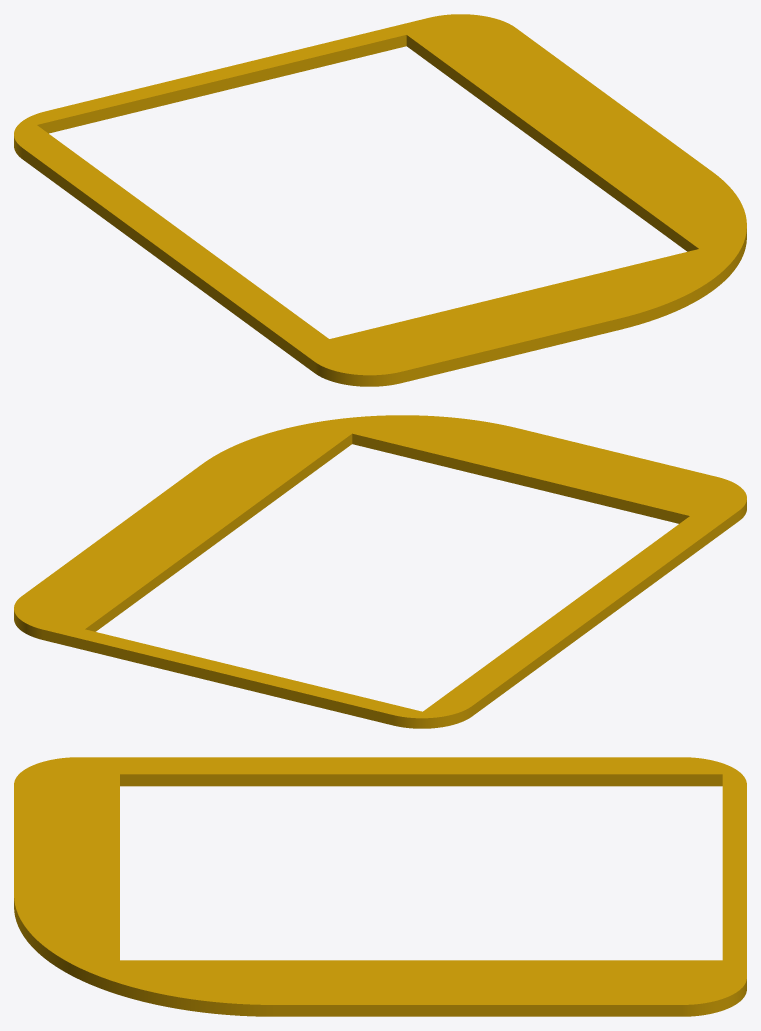
The model's file is luxury_plank_large.glb.
3 views of the same model, one above another, from view 1: azimuth 30°, elevation 25°; view 2: azimuth 150°, elevation 25°; view 3: azimuth 270°, elevation 25° (orthographic). The views are drawn at different scales.
Bounding box in the file's own units: 0.18 × 0.004 × 0.225.
